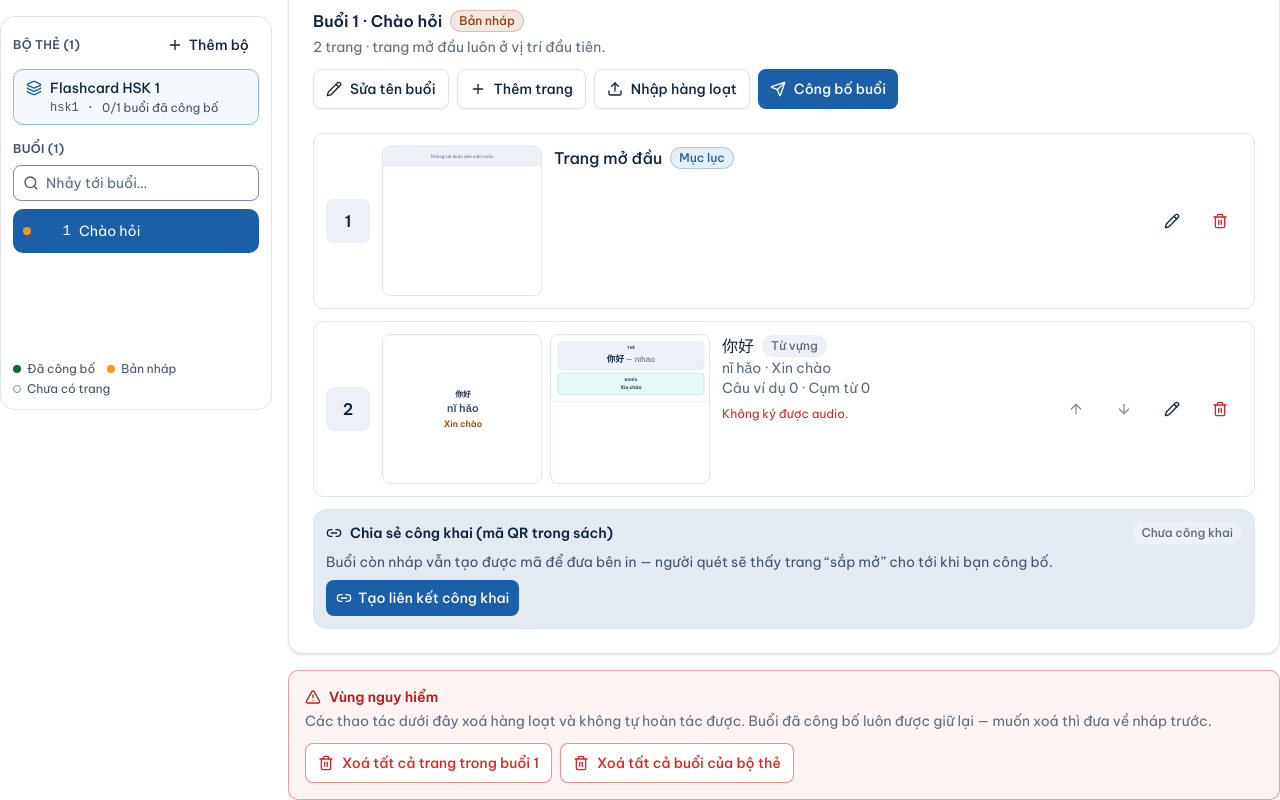
FlashcardAdminManager › nút xoá mở hộp thoại xác nhận, KHÔNG xoá thẳng khi bấm
(page scrolled)
Click the button "Xoá tất cả trang trong buổi 1" at (428, 763), box [305,743,552,783]
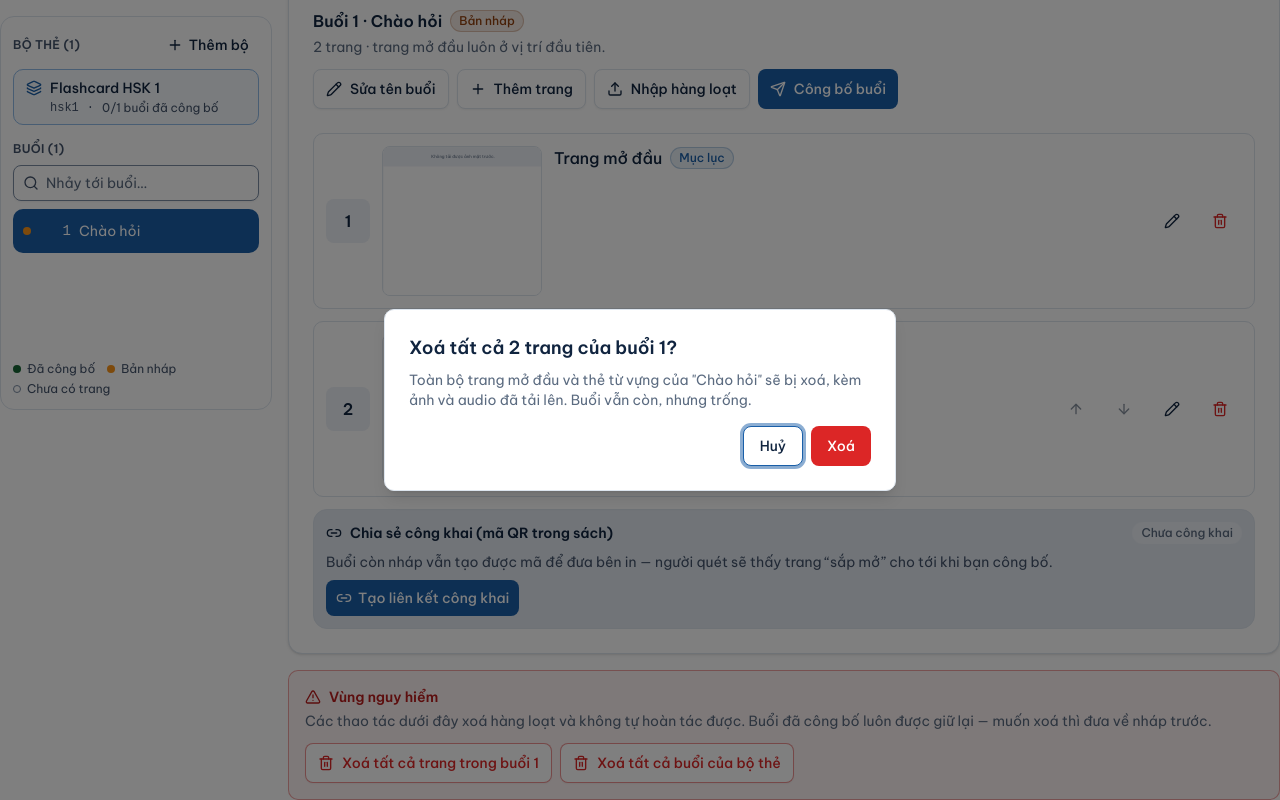
Now the dialog "Xoá tất cả 2 trang của buổi 1" is shown, box [384,309,896,491]
Now the button "Huỷ" is shown, box [743,426,803,466]
